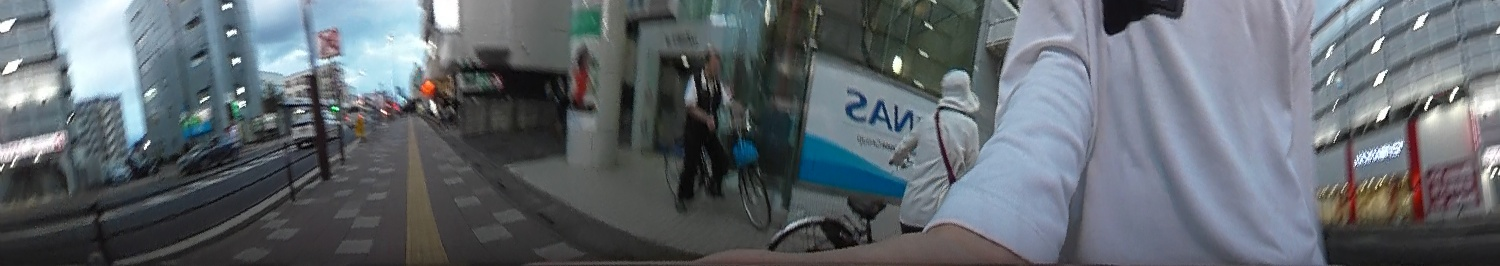person: (879, 65, 972, 225), (669, 42, 727, 203)
